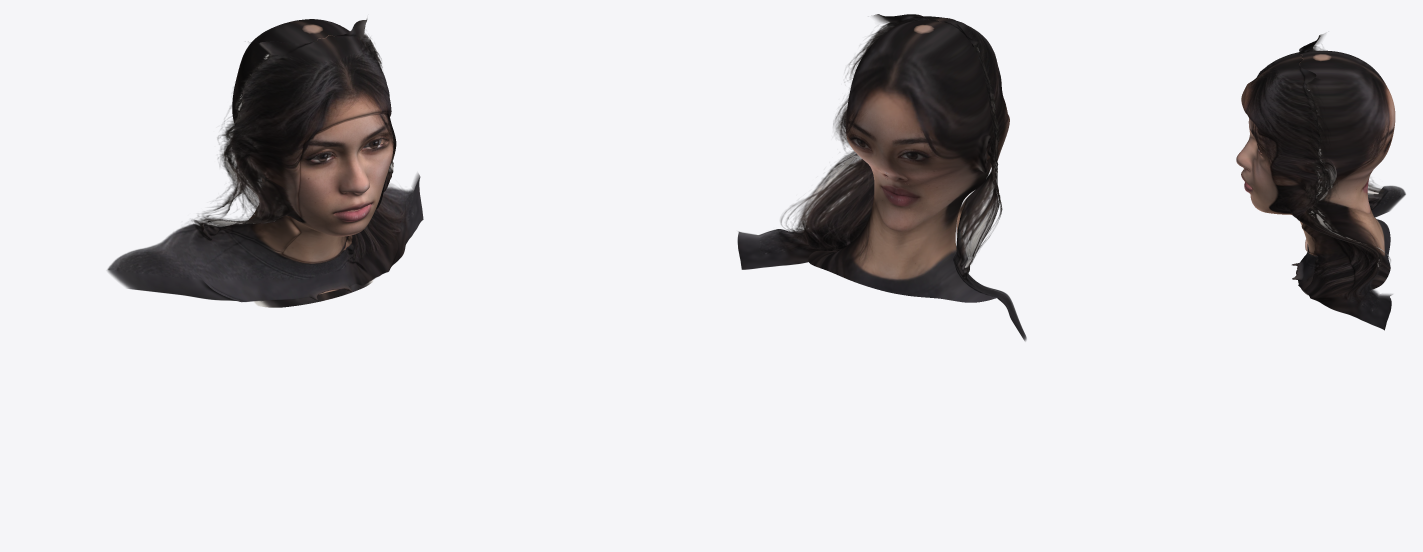
Rendered from head.glb.
3 renders of one model, left to right at view 1: azimuth 30°, elevation 25°; view 2: azimuth 150°, elevation 25°; view 3: azimuth 270°, elevation 25°, orthographic. The views are drawn at different scales.
Visible parts, largest first — view 1: HairShell, Head; view 2: Head, HairShell; view 3: HairShell, Head.
Boxes of the visible parts, x1,y1,x2,y2 form: HairShell: (107, 18, 423, 301); Head: (201, 19, 393, 307); Head: (808, 20, 997, 302); HairShell: (737, 14, 1026, 341); HairShell: (1241, 33, 1405, 330); Head: (1236, 50, 1395, 295).
Size of the model in its own units: 0.6883 by 0.4978 by 0.2124.
4 materials, 4 textured.
